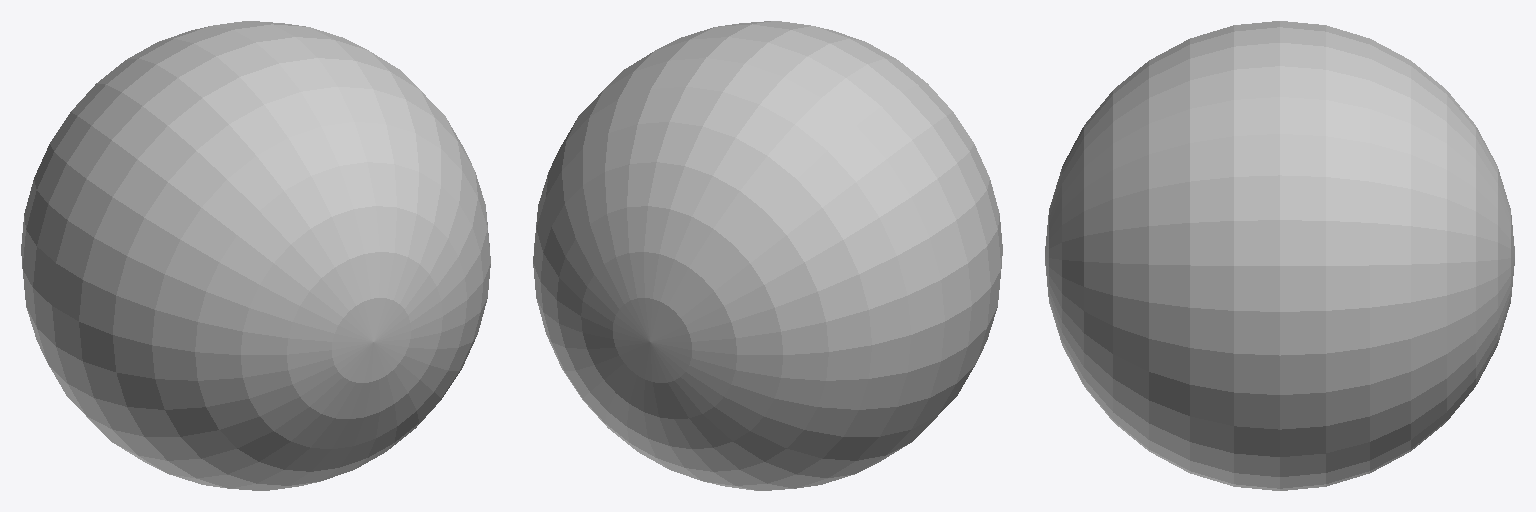
File: planet.obj
3 renders of one model, left to right at view 1: azimuth 30°, elevation 25°; view 2: azimuth 150°, elevation 25°; view 3: azimuth 270°, elevation 25°, orthographic.
Parts seen in each view (by area): view 1: Sphere; view 2: Sphere; view 3: Sphere.
Part boxes in pixels (x1,y1,x2,y2): Sphere: (21, 21, 490, 490); Sphere: (533, 21, 1002, 490); Sphere: (1045, 21, 1514, 490).
Bounding box in the file's own units: 0.4 × 0.4 × 0.4.